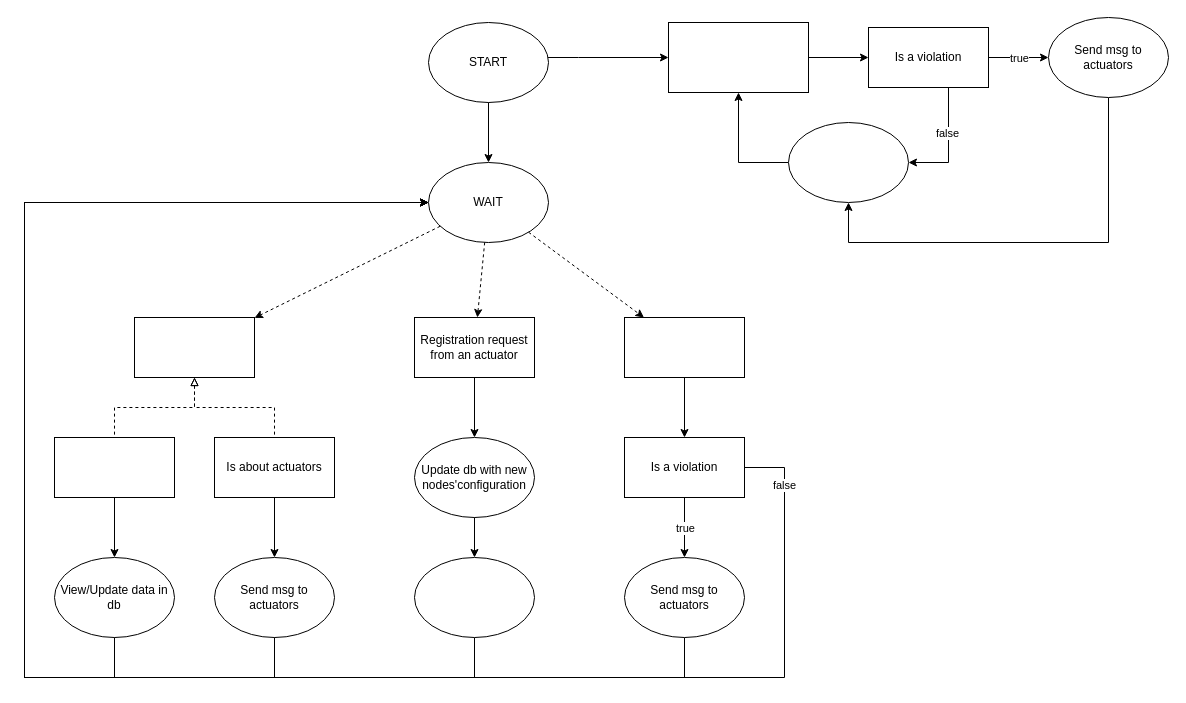
Some shapes in this 1186 by 703 pixel diagram are drawn without their labels. Each missing label, with the centre of its shape:
Command by the user: point 194,347
Is about db: point 114,467
Read last measurements from db: point 738,57
Receive notification from actuator: point 684,347
Send observation request to new actuator: point 474,597
WAIT 10 MIN: point 848,162
